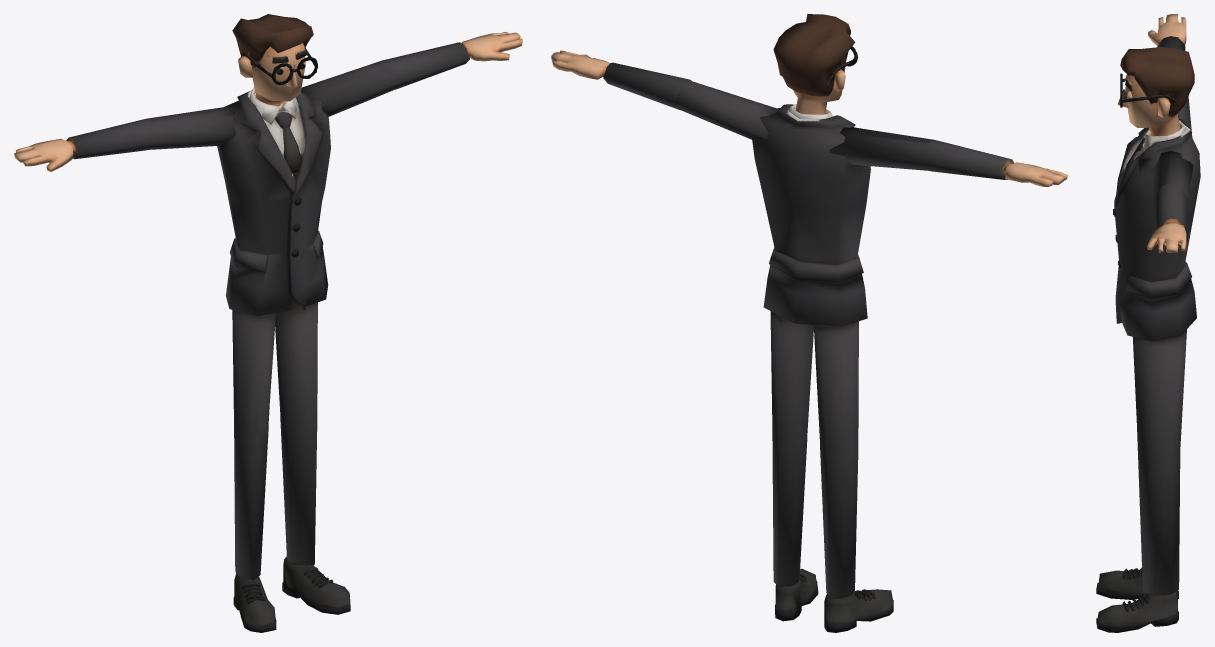
File: char_von_neumann.glb
3 views of the same model, side by side, from view 1: azimuth 30°, elevation 25°; view 2: azimuth 150°, elevation 25°; view 3: azimuth 270°, elevation 25° (orthographic). The views are drawn at different scales.
Visible parts, largest first — view 1: tripo_node_2fba3260-d2a9-4e74-987a-2d4e009f0fb8; view 2: tripo_node_2fba3260-d2a9-4e74-987a-2d4e009f0fb8; view 3: tripo_node_2fba3260-d2a9-4e74-987a-2d4e009f0fb8.
Boxes of the visible parts, x1,y1,x2,y2 form: tripo_node_2fba3260-d2a9-4e74-987a-2d4e009f0fb8: (14,14,522,632); tripo_node_2fba3260-d2a9-4e74-987a-2d4e009f0fb8: (551,14,1067,632); tripo_node_2fba3260-d2a9-4e74-987a-2d4e009f0fb8: (1096,14,1200,632).
Size of the model in its own units: 1.58 by 1.75 by 0.2979.
Materials: 1 (1 with a texture image).
